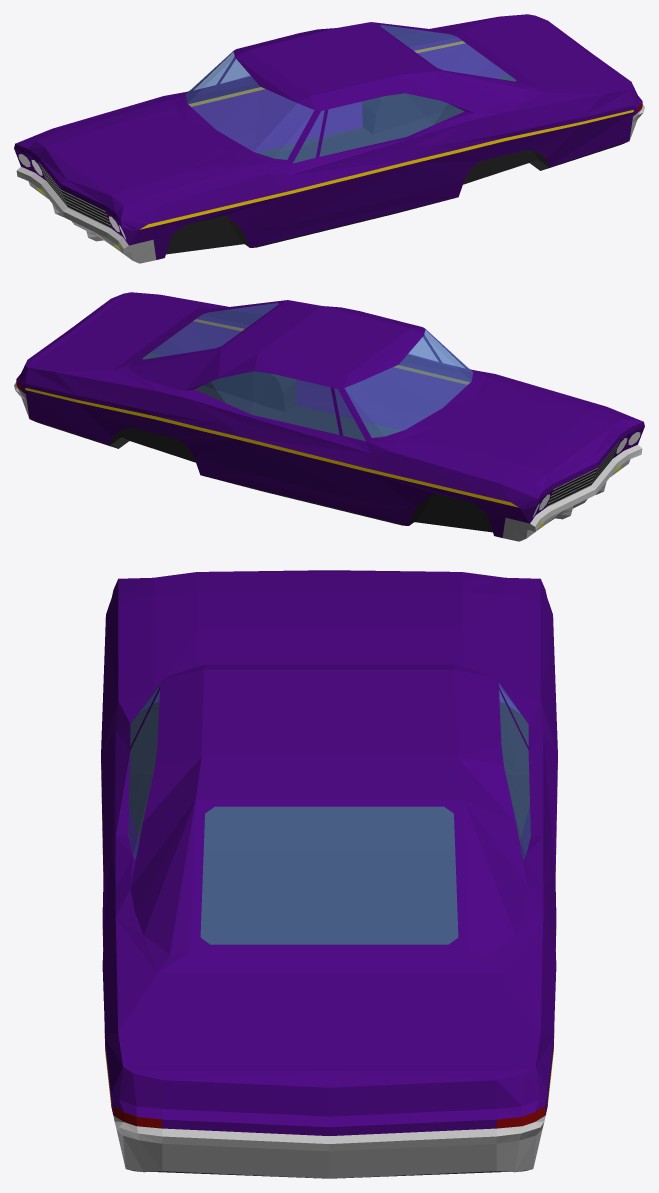
The model's file is Impala.fbx.
3 views of the same model, one above another, from view 1: azimuth 30°, elevation 25°; view 2: azimuth 150°, elevation 25°; view 3: azimuth 270°, elevation 25° (orthographic). The views are drawn at different scales.
Parts seen in each view (by area): view 1: _(Loose Entity); view 2: _(Loose Entity); view 3: _(Loose Entity).
Part boxes in pixels (left/top/right/bottom): _(Loose Entity): left=14, top=14, right=644, bottom=263; _(Loose Entity): left=14, top=292, right=644, bottom=541; _(Loose Entity): left=101, top=570, right=557, bottom=1178.
Size of the model in its own units: 509 by 113 by 186.
